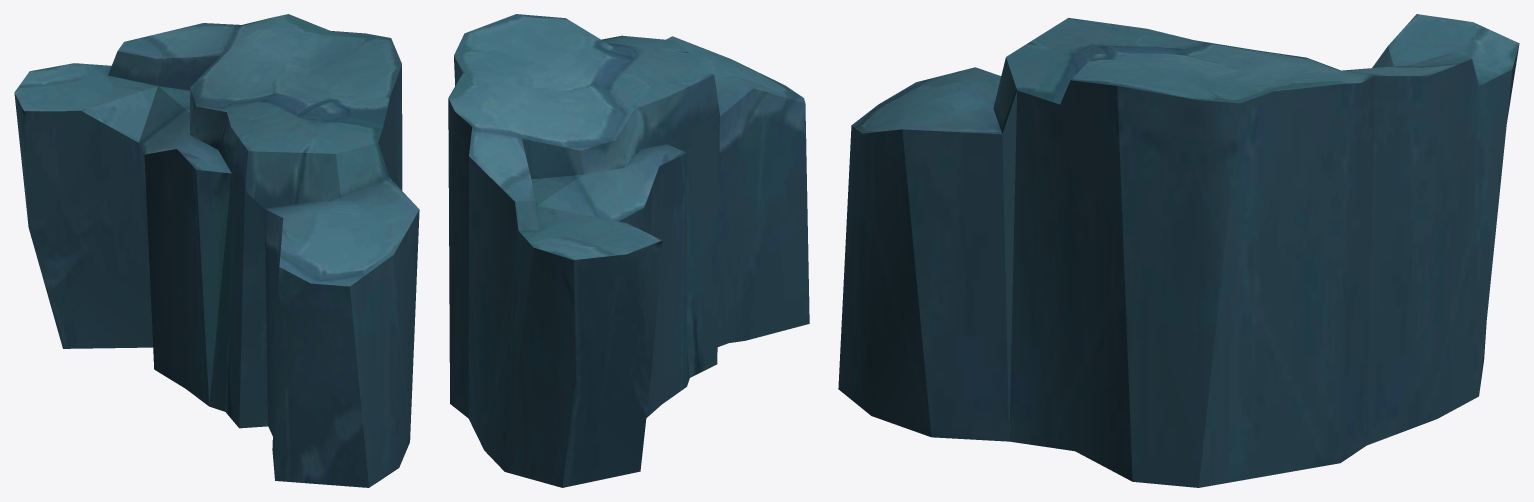
File: map_111_shitou_7.fbx
3 renders of one model, left to right at view 1: azimuth 30°, elevation 25°; view 2: azimuth 150°, elevation 25°; view 3: azimuth 270°, elevation 25°, orthographic. The views are drawn at different scales.
Parts seen in each view (by area): view 1: map_111_shitou_7; view 2: map_111_shitou_7; view 3: map_111_shitou_7.
Boxes of the visible parts, x1,y1,x2,y2 form: map_111_shitou_7: (14,14,419,487); map_111_shitou_7: (448,14,809,487); map_111_shitou_7: (838,14,1519,487).
Size of the model in its own units: 2.83 by 2.98 by 4.7.
